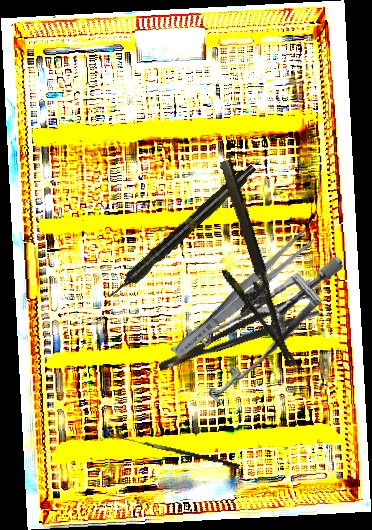Dressing Forceps: (169, 225, 318, 363)
Handpiece: (103, 160, 260, 304)
Hook Surgical: (115, 435, 241, 470)
Needle Holder: (191, 158, 297, 378)
Speculum: (164, 254, 354, 409)
Tissue Forceps: (152, 291, 321, 374)
